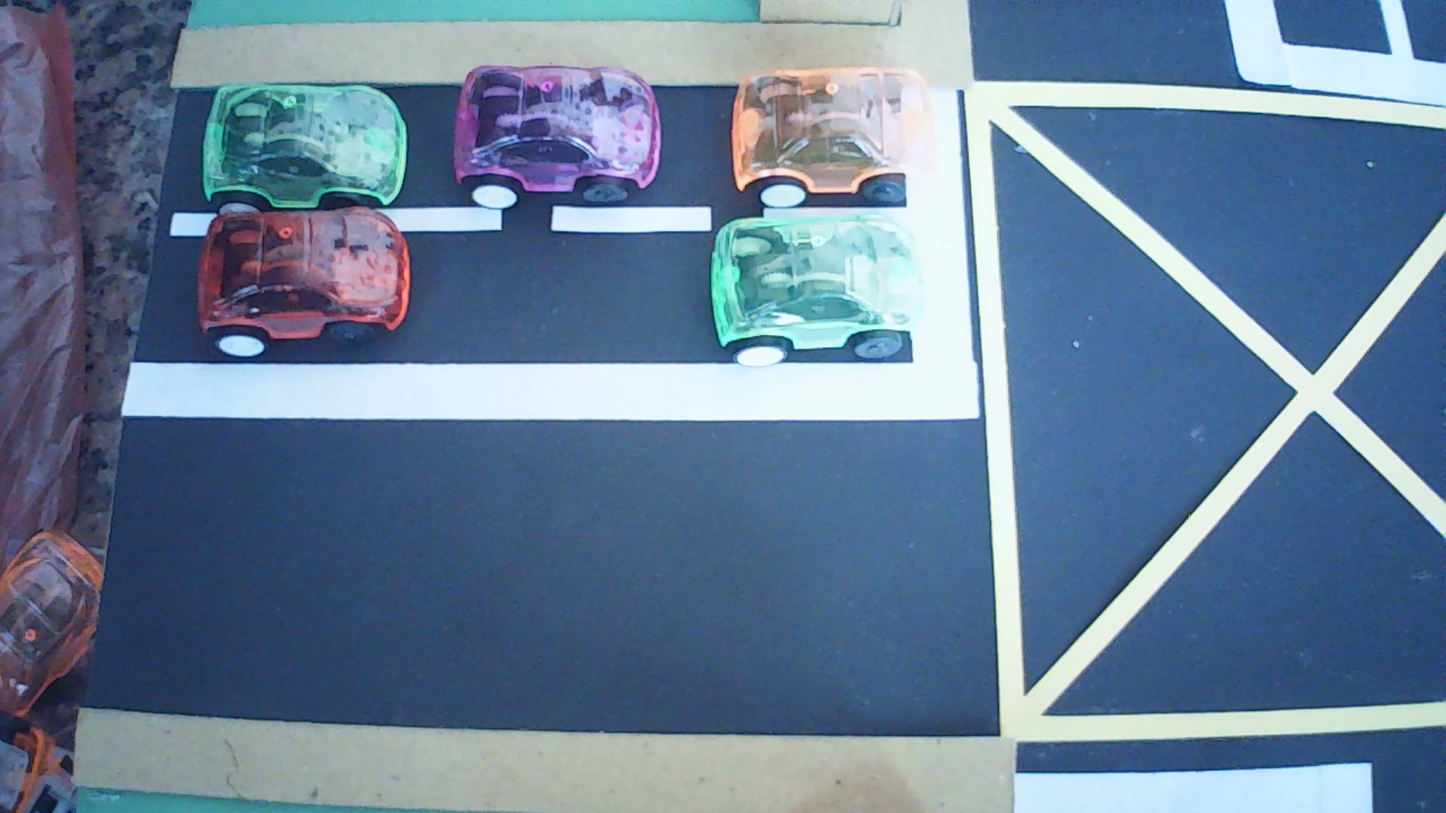Mobil hijau: (710, 214, 922, 367), (203, 84, 407, 212)
Mobil merah: (197, 206, 411, 358)
Mobil orange: (731, 67, 935, 206)
Mobil ungu: (454, 66, 662, 210)
